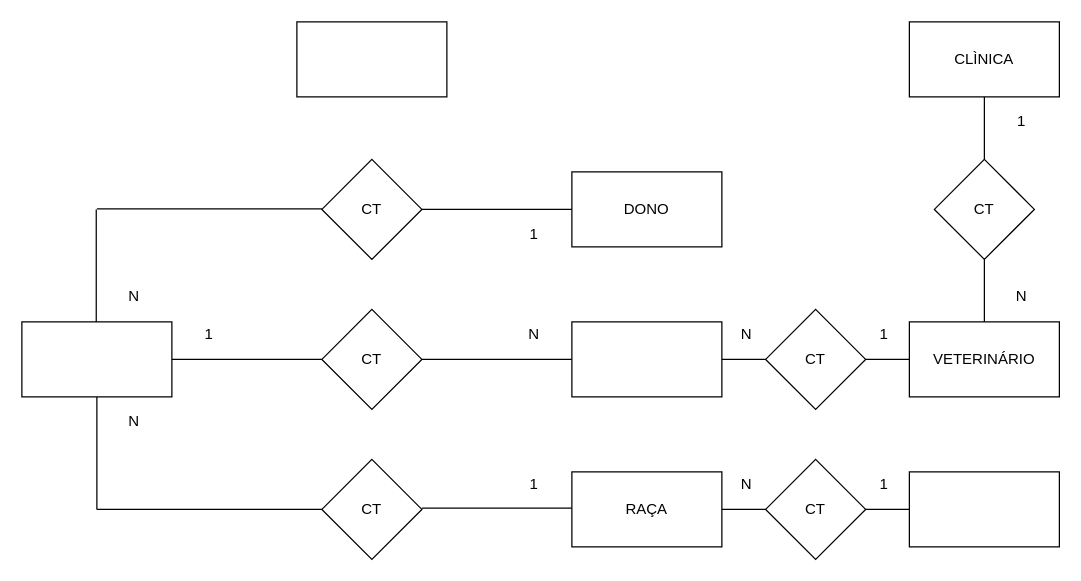
The diagram is 1081 pixels wide and 581 high, and some of its shapes have lost their labels. Each missing label, with the box of its shape:
ATENDIMENTO: (571, 321, 722, 397)
CONCEITUAL: (296, 21, 447, 97)
PET: (21, 321, 172, 397)
TIPO: (908, 471, 1059, 547)
